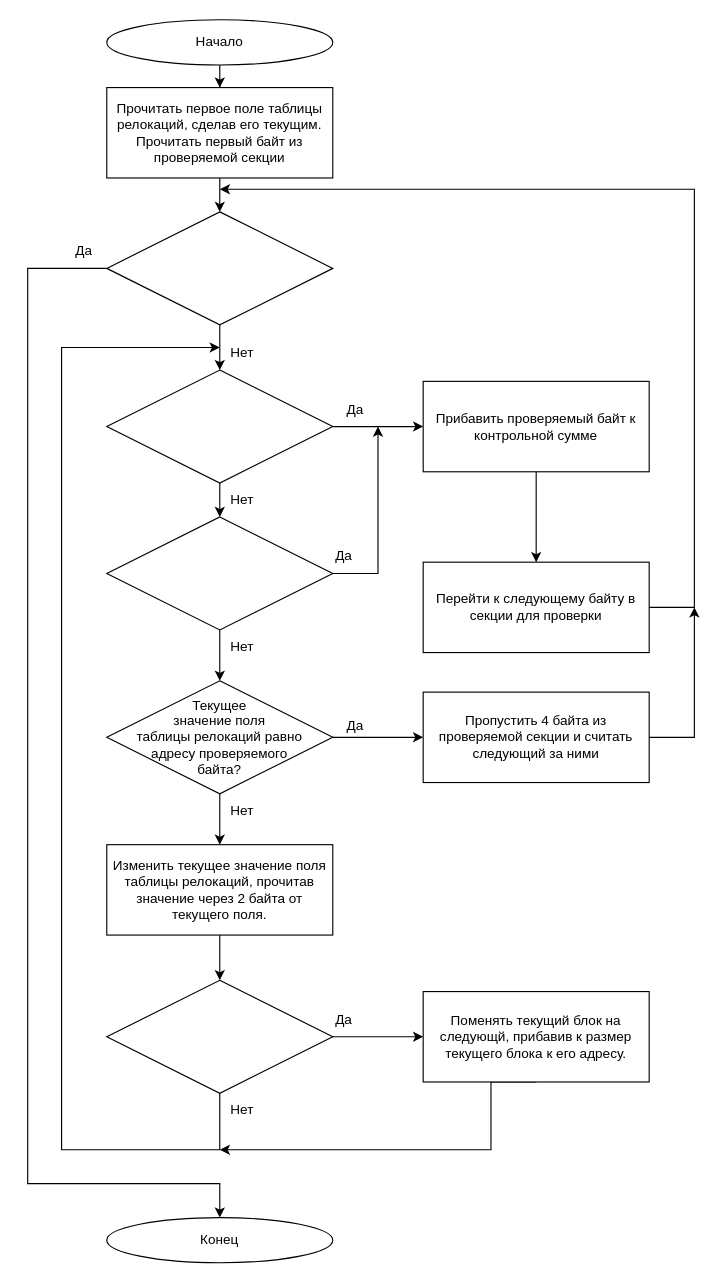
The diagram is 723 pixels wide and 1283 high, and some of its shapes have lost their labels. The centre of each missing label's shape, as x and y in pixels:
Адрес текущего поля таблицы релокаций вышел за границы таблицы?: [219,426]
Новое значение текущего поля таблицы выходит за границы текущего блока?: [219,1036]
Проверяемый байт вышел за границу проверяемой секции?: [219,268]
Текущее значение поля таблицы релокаций больше адреса проверяемого байта?: [219,573]
